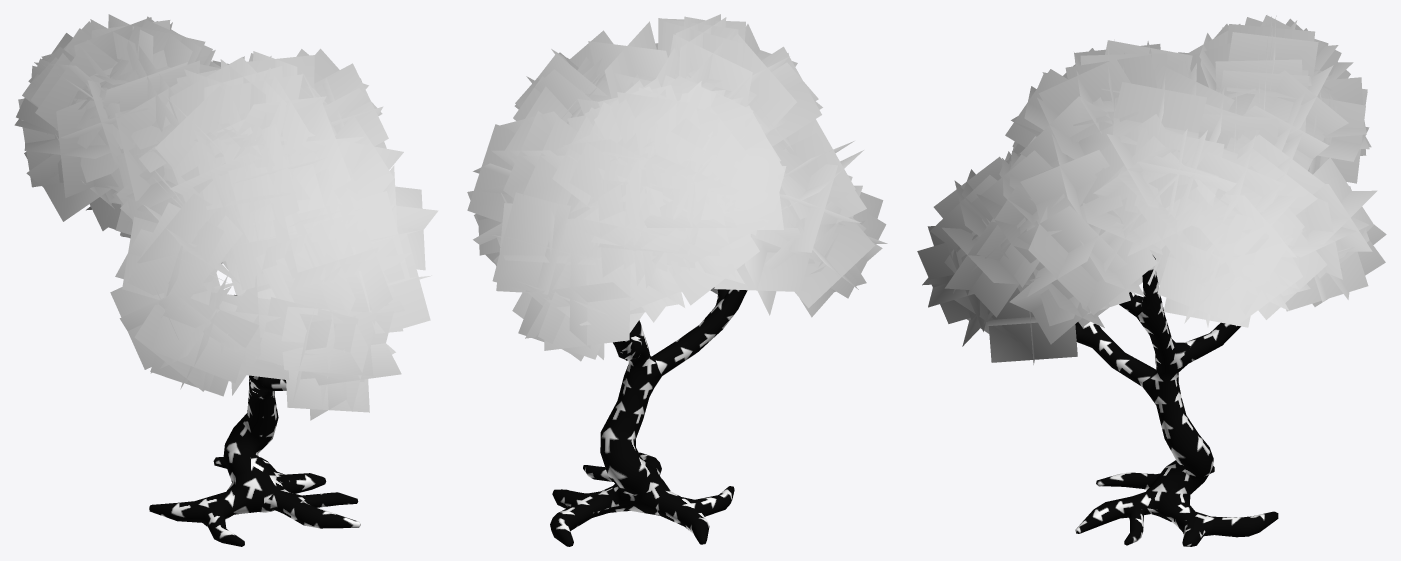
Rendered from SM_Tree3.fbx.
3 renders of one model, left to right at view 1: azimuth 30°, elevation 25°; view 2: azimuth 150°, elevation 25°; view 3: azimuth 270°, elevation 25°, orthographic. The views are drawn at different scales.
Parts seen in each view (by area): view 1: Leaves.002, Tree3; view 2: Leaves.002, Tree3; view 3: Leaves.002, Tree3.
Part boxes in pixels (box(x1,y1,x2,y2)): Leaves.002: box(14, 14, 438, 420); Tree3: box(149, 262, 360, 546); Leaves.002: box(467, 14, 887, 361); Tree3: box(550, 289, 747, 546); Leaves.002: box(917, 15, 1386, 364); Tree3: box(1075, 255, 1278, 546).
Size of the model in its own units: 796 by 1159 by 1085.
